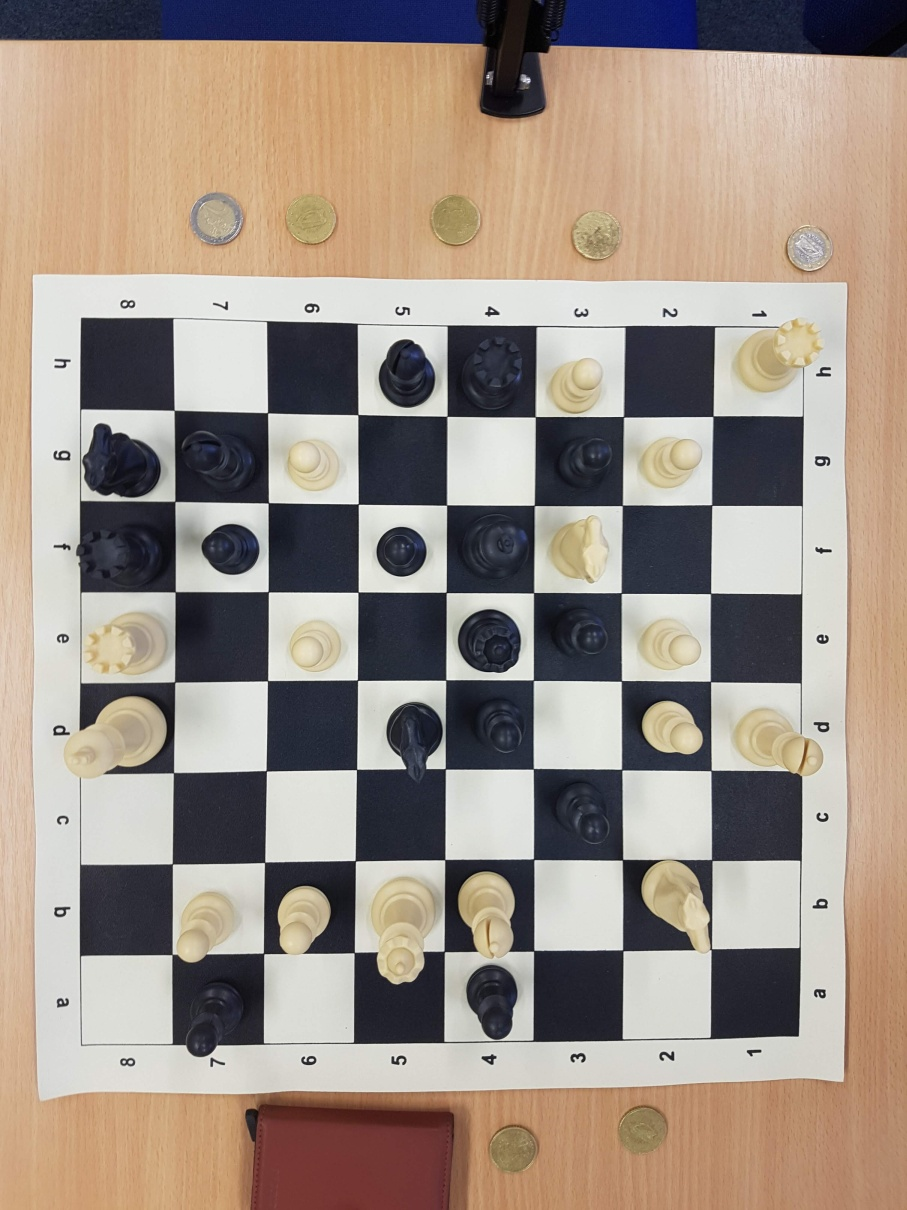chess_bishop: (735, 708, 824, 777), (459, 874, 515, 957), (181, 431, 253, 491), (381, 338, 435, 406)
chess_king: (65, 697, 167, 777), (463, 515, 529, 577)
chess_knight: (641, 860, 713, 952), (82, 423, 161, 498), (387, 701, 443, 781), (550, 516, 609, 584)
chess_pawn: (187, 983, 245, 1058), (175, 893, 234, 961), (554, 779, 612, 846), (467, 965, 519, 1039), (278, 886, 329, 954), (641, 701, 705, 754), (641, 436, 703, 488), (641, 621, 701, 671), (284, 439, 340, 491), (474, 698, 525, 754), (550, 358, 603, 411), (557, 435, 612, 486), (202, 525, 258, 575), (290, 621, 340, 671), (555, 606, 605, 656), (376, 527, 427, 576)
chess_queen: (371, 878, 433, 984), (459, 610, 521, 674)
chess_rook: (735, 319, 824, 391), (77, 523, 163, 591), (84, 613, 170, 677), (463, 335, 527, 411)
